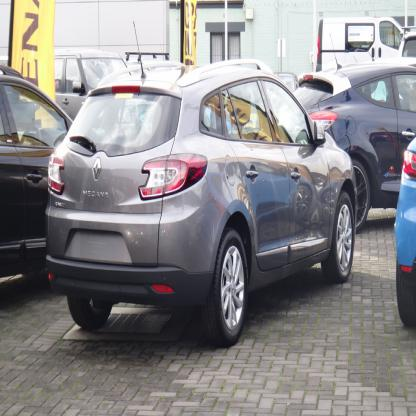Car: (0, 21, 416, 347)
